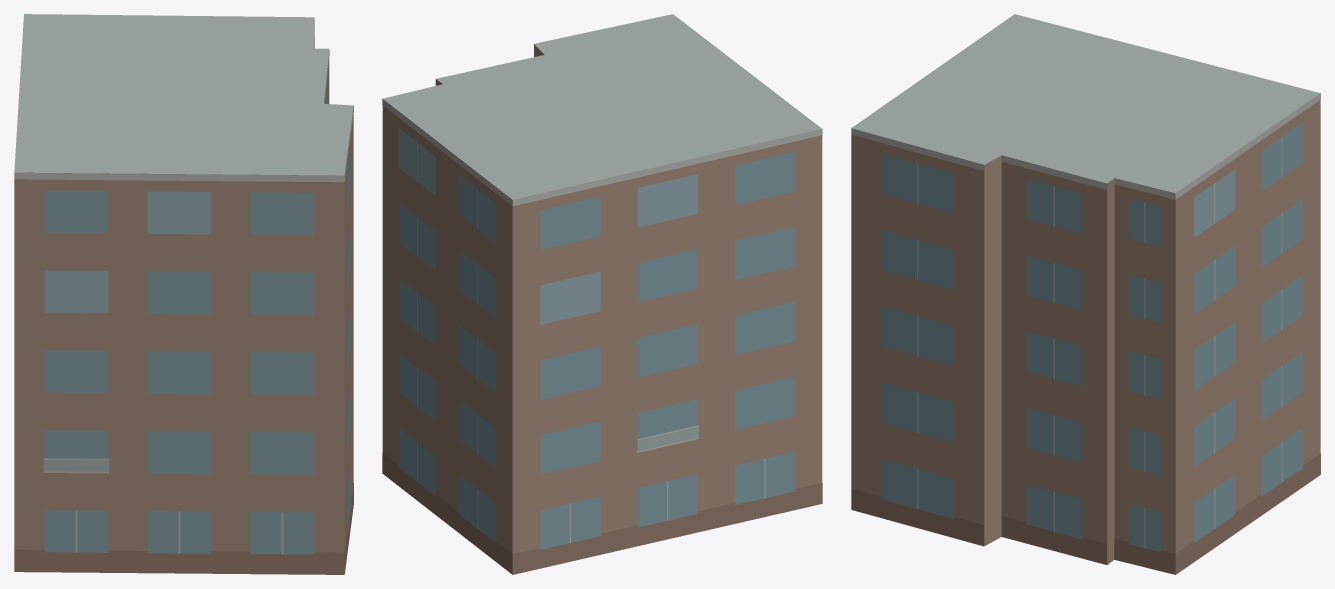
File: survey-upis-32948576.glb
The picture shows the model from 3 angles, left to right: view 1: azimuth 30°, elevation 25°; view 2: azimuth 150°, elevation 25°; view 3: azimuth 270°, elevation 25°; orthographic projection. The views are drawn at different scales.
Visible parts, largest first — view 1: survey-upis-32948576.tmp; view 2: survey-upis-32948576.tmp; view 3: survey-upis-32948576.tmp.
Boxes of the visible parts, bbox=[...] form: survey-upis-32948576.tmp: bbox=[14, 14, 353, 574]; survey-upis-32948576.tmp: bbox=[382, 14, 822, 574]; survey-upis-32948576.tmp: bbox=[851, 14, 1320, 574].
Size of the model in its own units: 14.56 by 14.45 by 16.12.
